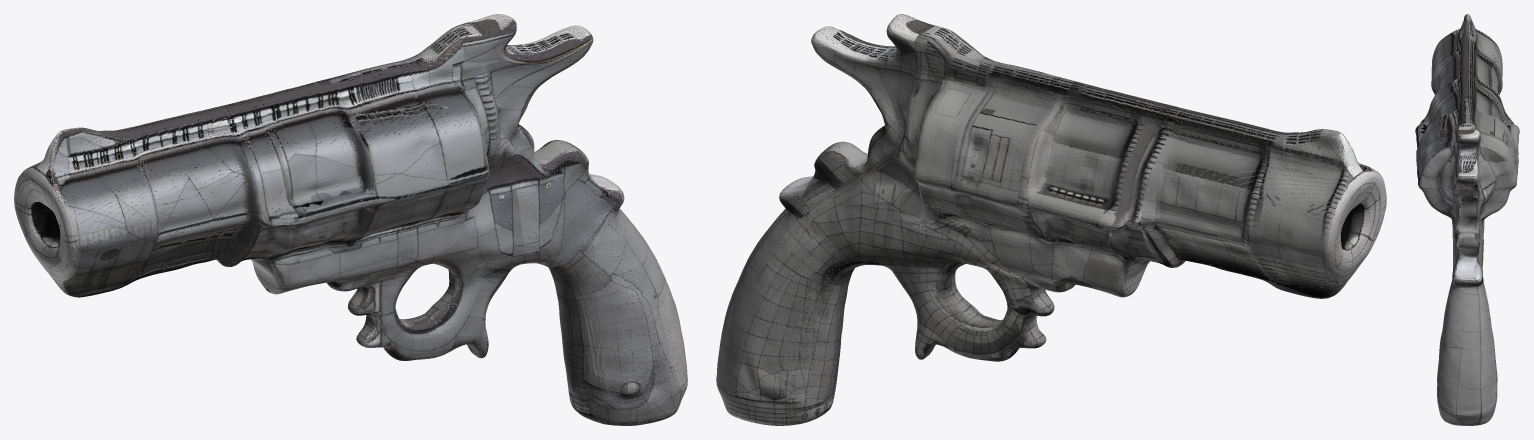
The model's file is textured_simple.glb.
3 renders of one model, left to right at view 1: azimuth 30°, elevation 25°; view 2: azimuth 150°, elevation 25°; view 3: azimuth 270°, elevation 25°, orthographic. The views are drawn at different scales.
Visible parts, largest first — view 1: Node; view 2: Node; view 3: Node.
Part boxes in pixels (x1=…): Node: x1=14, y1=14, x2=687, y2=425; Node: x1=716, y1=14, x2=1386, y2=425; Node: x1=1415, y1=14, x2=1519, y2=425.
Size of the model in its own units: 2 by 1.26 by 0.4864.
Materials: 1 (1 with a texture image).
